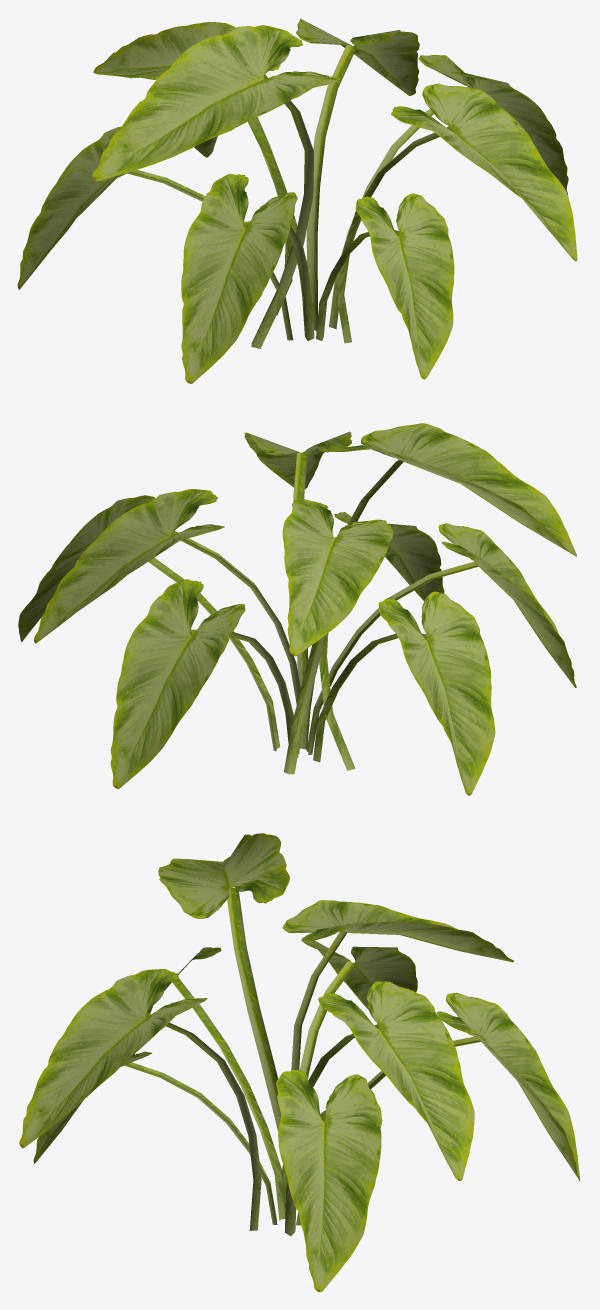
The model's file is ela_2s_hi.fbx.
3 views of the same model, one above another, from view 1: azimuth 30°, elevation 25°; view 2: azimuth 150°, elevation 25°; view 3: azimuth 270°, elevation 25° (orthographic). The views are drawn at different scales.
Visible parts, largest first — view 1: ela_hi; view 2: ela_hi; view 3: ela_hi.
Part boxes in pixels (x1=…): ela_hi: x1=17, y1=18, x2=577, y2=383; ela_hi: x1=18, y1=423, x2=576, y2=795; ela_hi: x1=19, y1=833, x2=580, y2=1292.
Bounding box in the file's own units: 2399 × 1459 × 2248.
